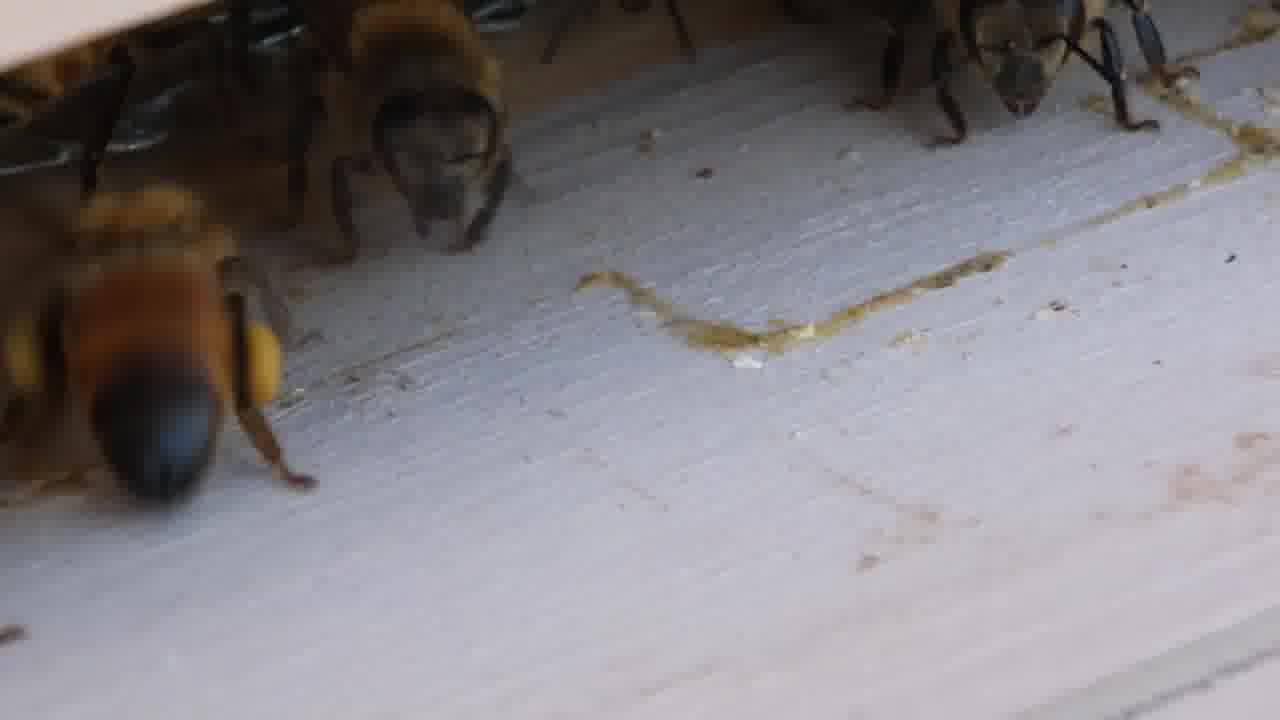pollen: (1, 180, 320, 513)
